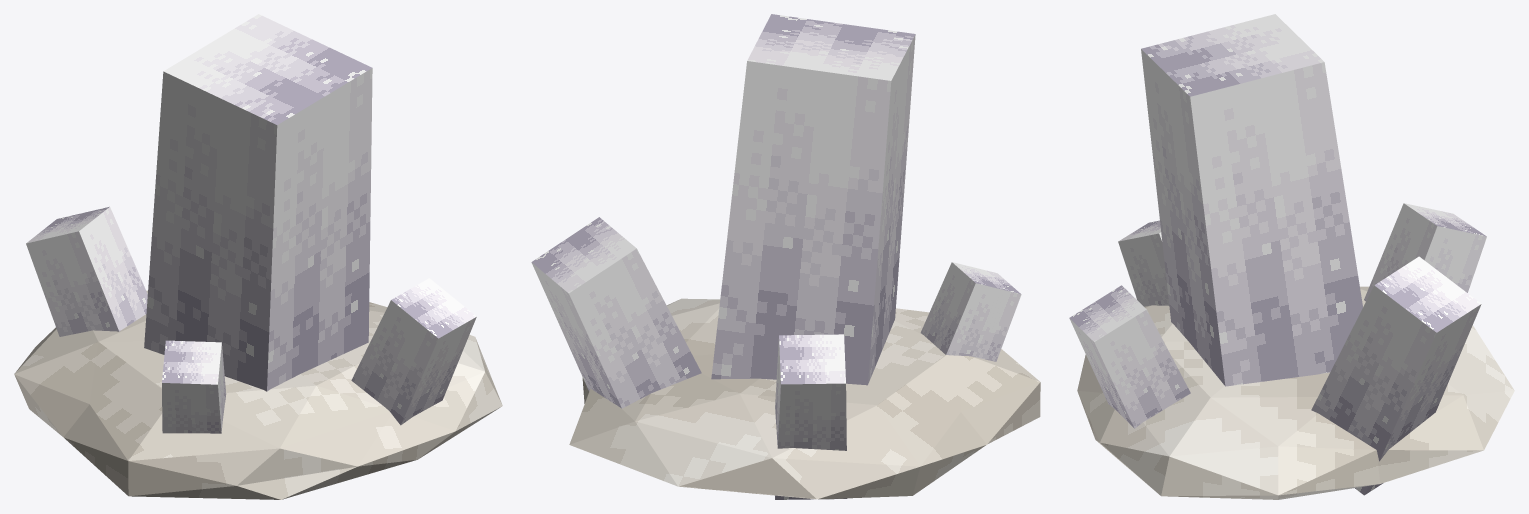
Rendered from salt_crystal.glb.
The picture shows the model from 3 angles, left to right: view 1: azimuth 30°, elevation 25°; view 2: azimuth 150°, elevation 25°; view 3: azimuth 270°, elevation 25°; orthographic projection. The views are drawn at different scales.
Visible parts, largest first — view 1: salt_crystal; view 2: salt_crystal; view 3: salt_crystal.
Boxes of the visible parts, x1,y1,x2,y2 form: salt_crystal: (14,14,502,499); salt_crystal: (531,14,1040,499); salt_crystal: (1069,14,1514,499).
Size of the model in its own units: 1 by 0.9 by 0.9684.
Materials: 2 (2 with a texture image).
